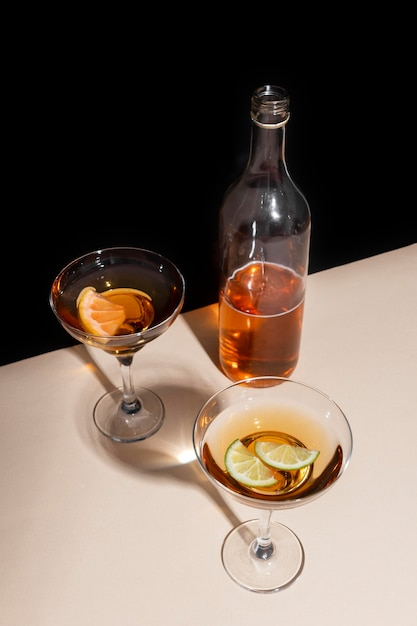alcohol: (192, 378, 353, 592), (44, 244, 187, 444), (220, 85, 313, 389)
